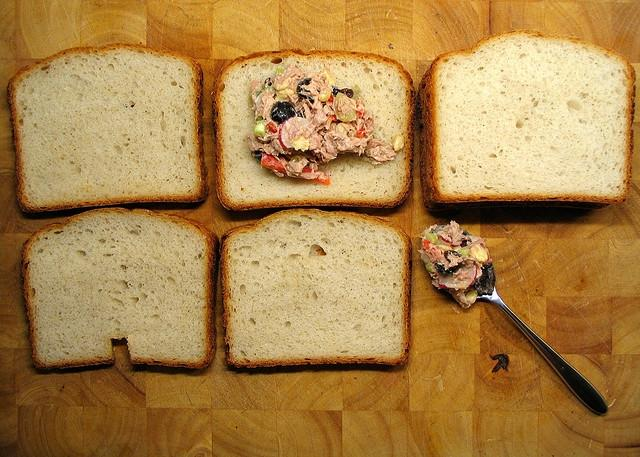tomato: (261, 154, 330, 186), (356, 102, 364, 119), (268, 121, 278, 134), (355, 126, 365, 139), (422, 240, 434, 250), (326, 114, 337, 121), (328, 94, 334, 102)
